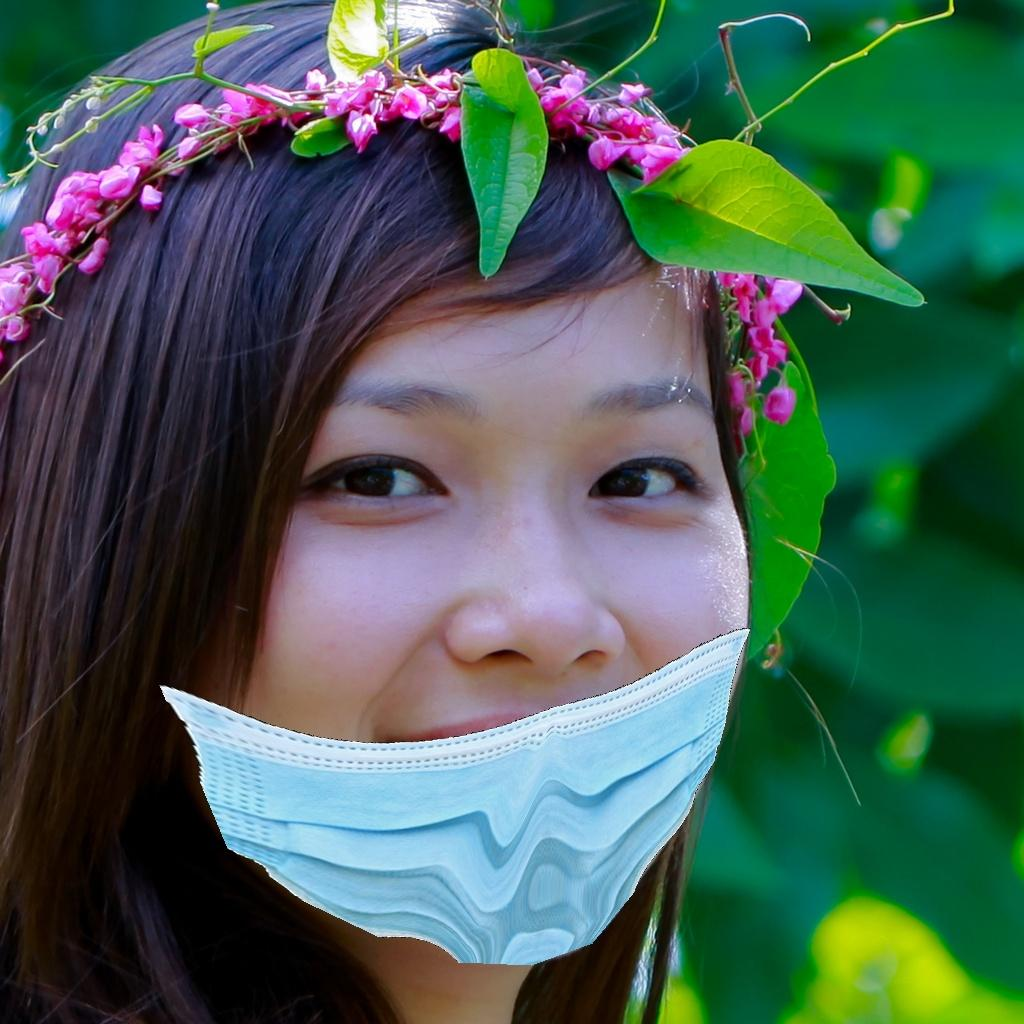Máscara Incorreta: (135, 328, 754, 921)
